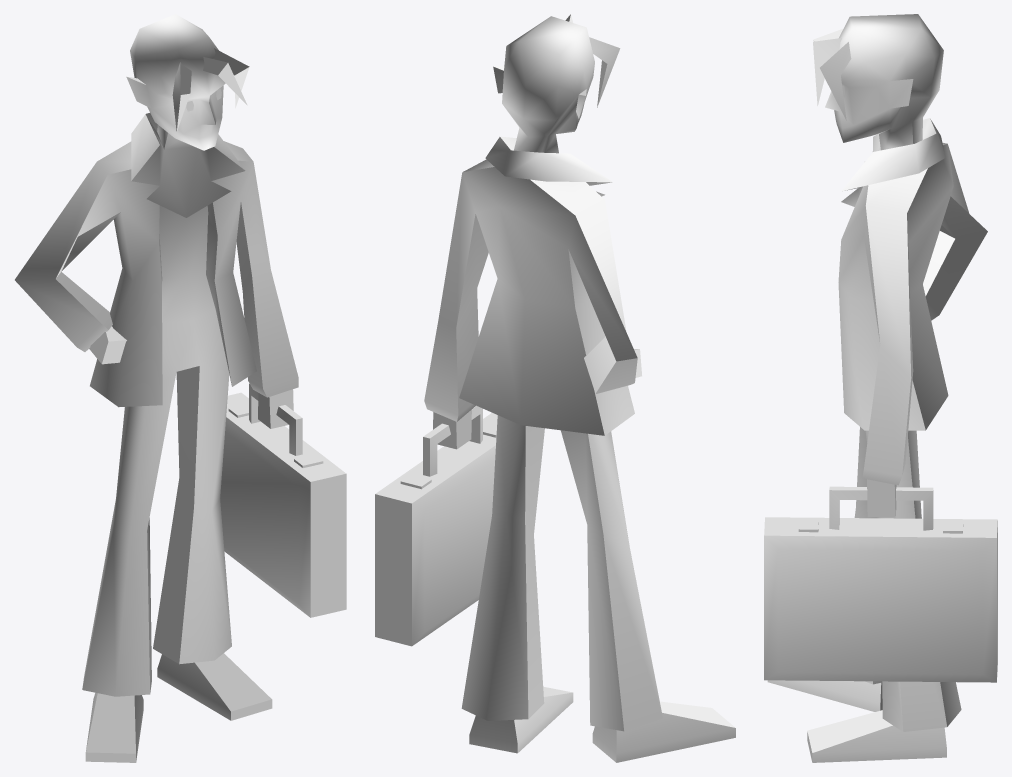
The model's file is GHMICON.DAT.obj.
The picture shows the model from 3 angles, left to right: view 1: azimuth 30°, elevation 25°; view 2: azimuth 150°, elevation 25°; view 3: azimuth 270°, elevation 25°; orthographic projection. The views are drawn at different scales.
Size of the model in its own units: 1.74 by 4.36 by 1.3.
Materials: 1 (1 with a texture image).
